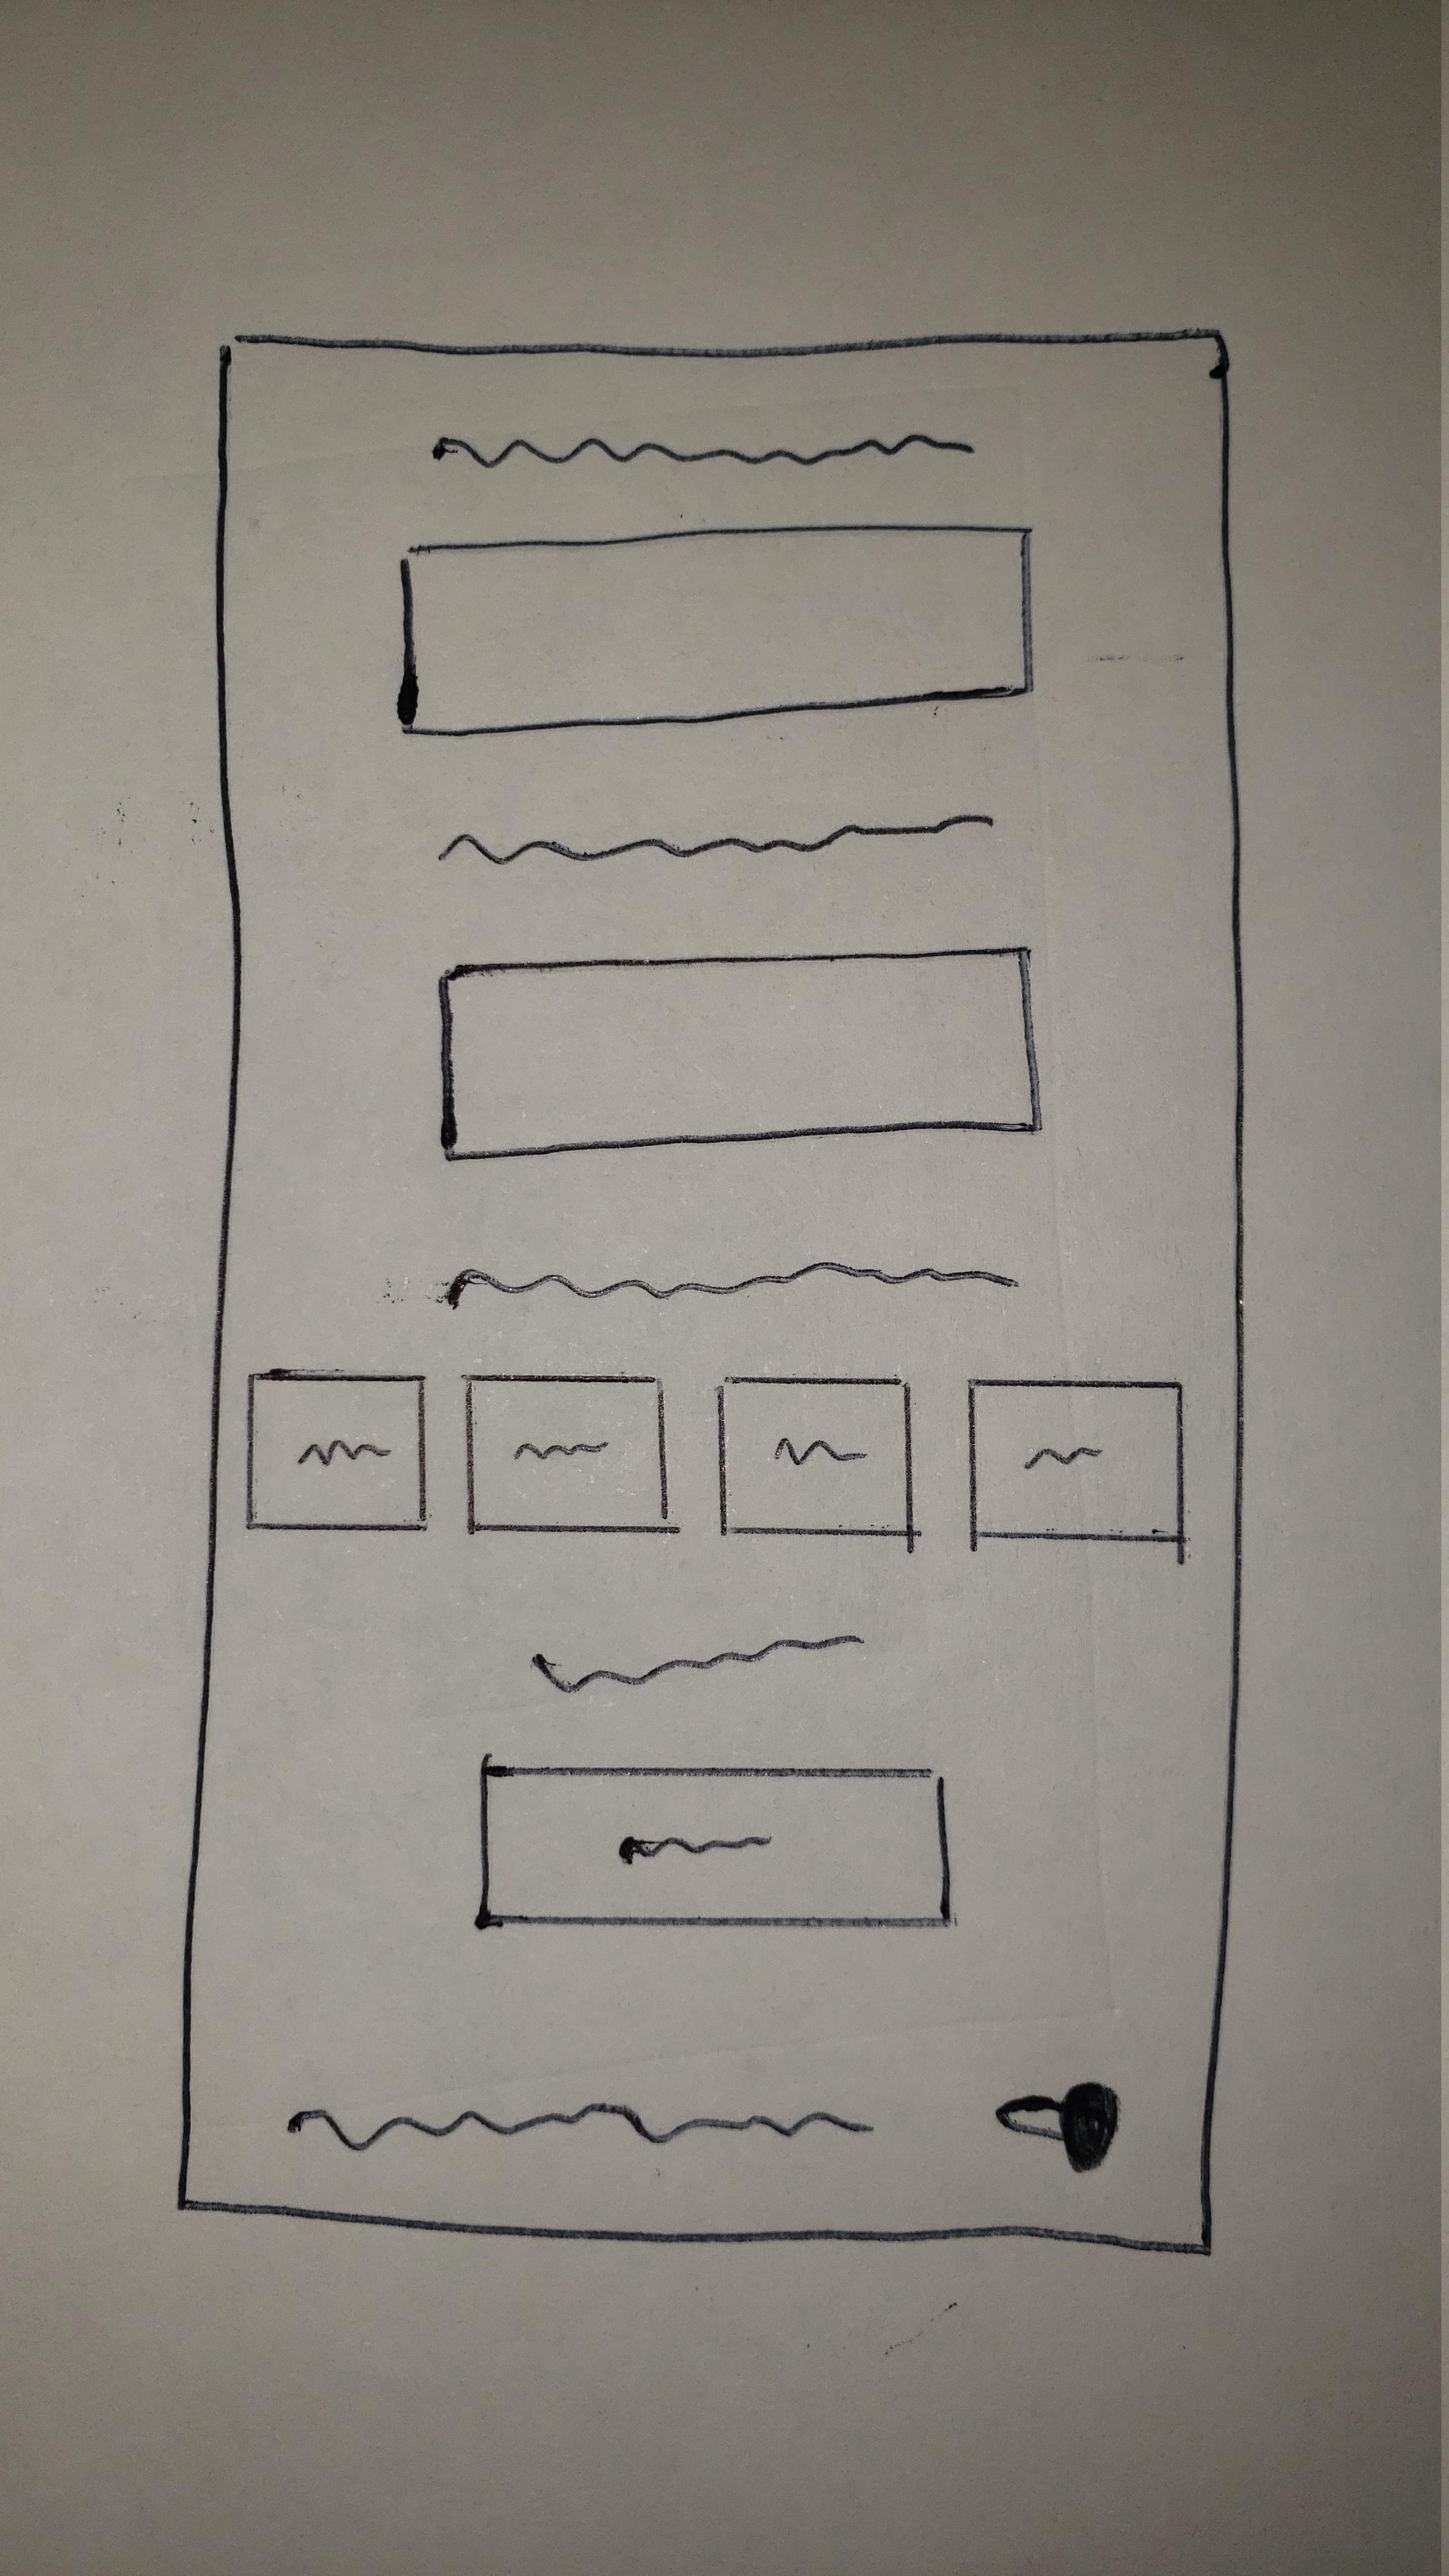Button: (474, 1760, 954, 1932), (970, 1378, 1187, 1560), (718, 1375, 920, 1550), (464, 1376, 678, 1532), (244, 1368, 428, 1530)
Label: (437, 816, 994, 867), (444, 1261, 1017, 1309), (527, 1631, 865, 1697), (432, 433, 975, 465)
Screen: (175, 329, 1247, 2258)
Switch: (288, 2082, 1123, 2174)
TextBox: (395, 525, 1031, 740), (439, 943, 1044, 1162)
